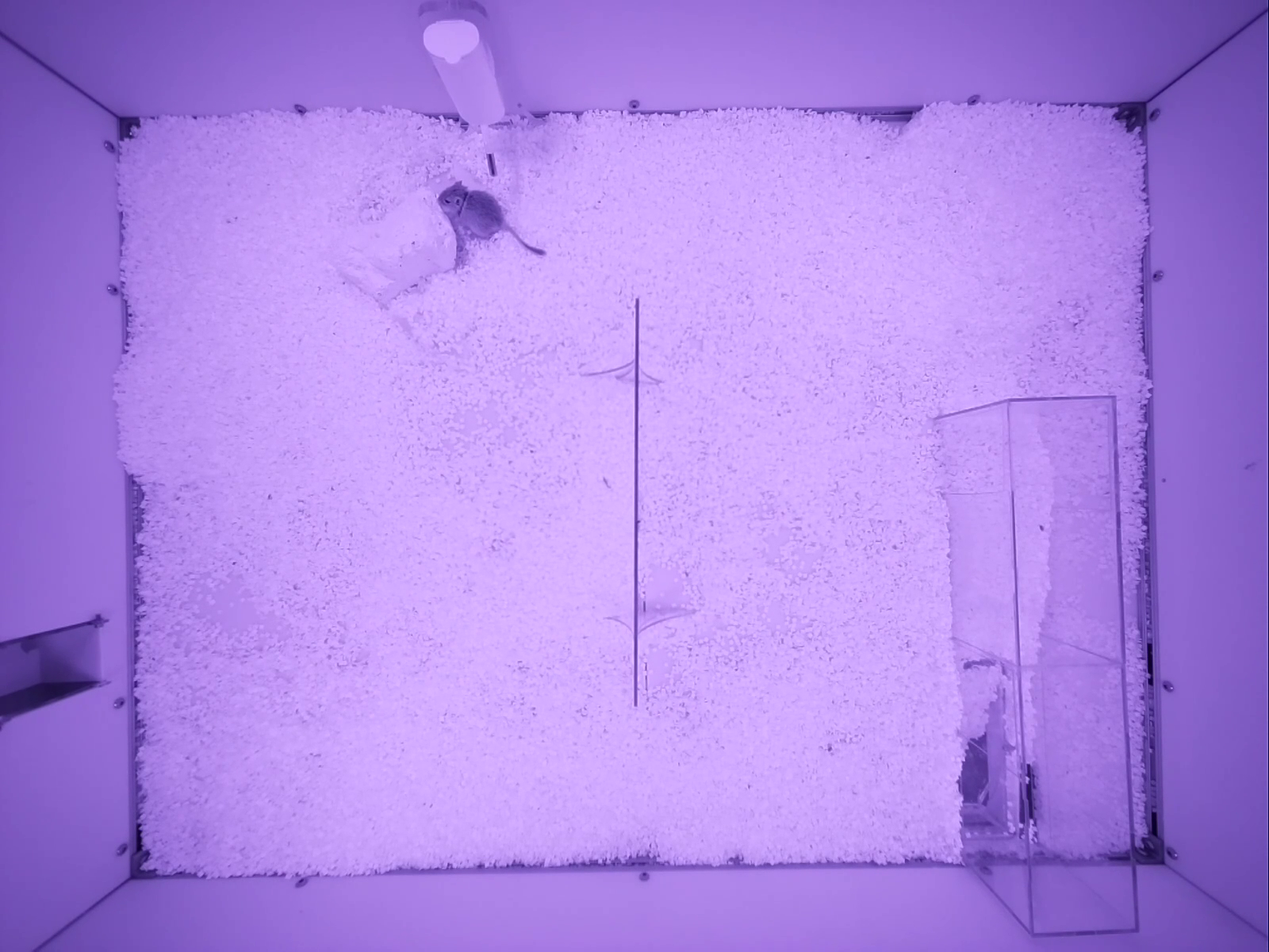adult_back: (438, 182, 545, 255)
